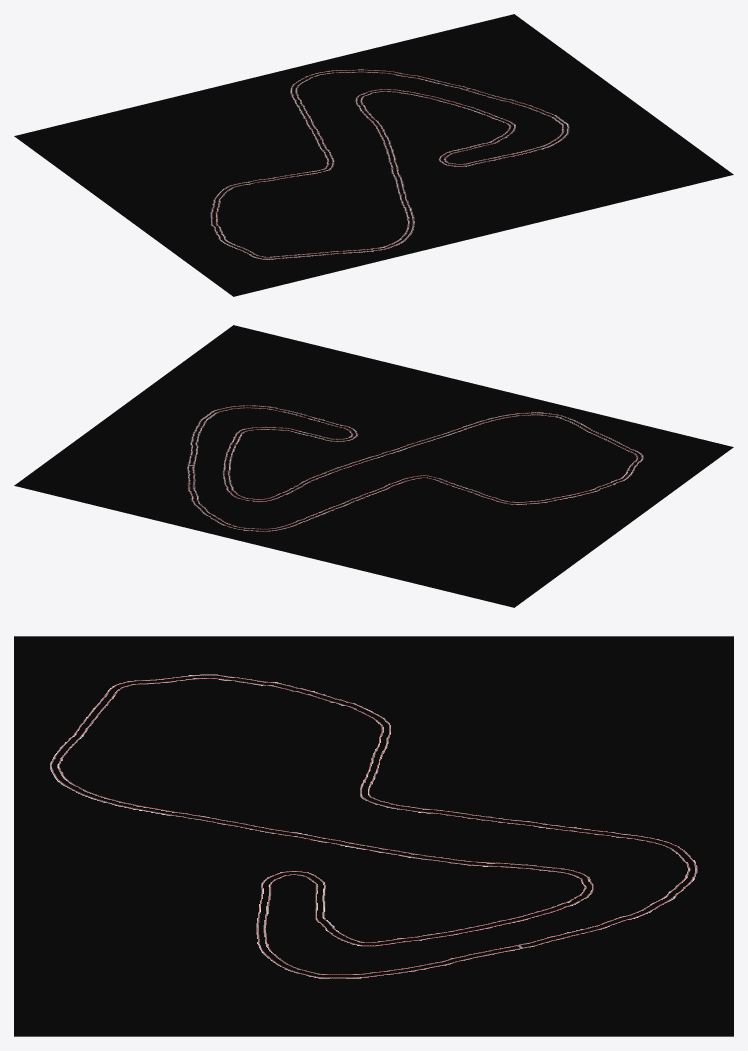
The model's file is track_brands_hatch.fbx.
3 views of the same model, one above another, from view 1: azimuth 30°, elevation 25°; view 2: azimuth 150°, elevation 25°; view 3: azimuth 270°, elevation 25° (orthographic). The views are drawn at different scales.
Parts seen in each view (by area): view 1: Plane, solid_rail; view 2: Plane, solid_rail; view 3: Plane, solid_rail.001, solid_rail.
Boxes of the visible parts, x1,y1,x2,y2 form: Plane: (14, 14, 733, 296); solid_rail: (212, 70, 567, 258); Plane: (14, 325, 733, 607); solid_rail: (188, 405, 641, 531); Plane: (14, 636, 733, 1036); solid_rail.001: (52, 675, 696, 978); solid_rail: (51, 675, 611, 978).
Size of what is drawn, in the model's own units: 70000 by 156 by 53200.
4 materials, 4 textured.
